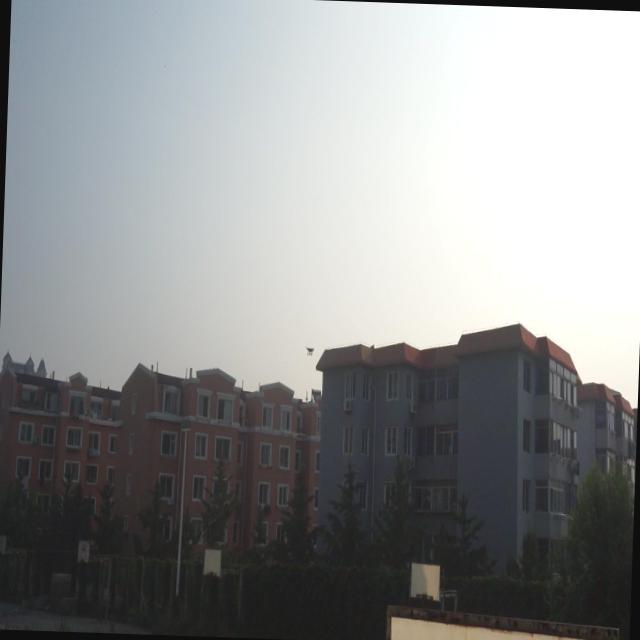drone: (303, 343, 316, 359)
